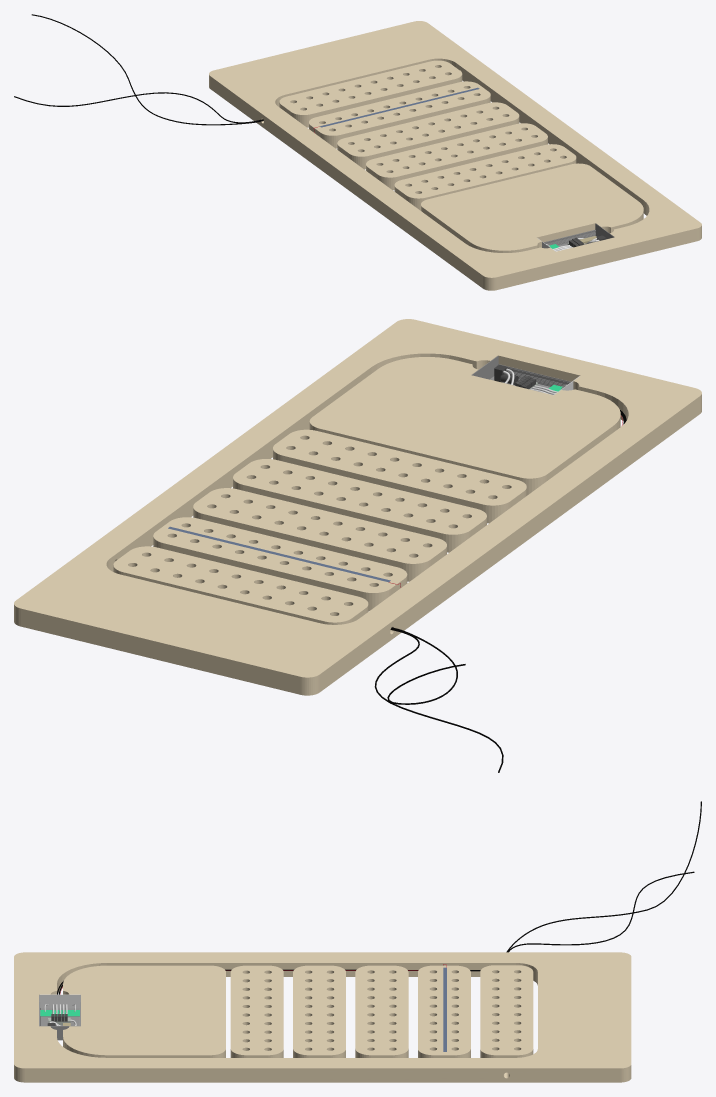
The picture shows the model from 3 angles, top to bottom: view 1: azimuth 30°, elevation 25°; view 2: azimuth 150°, elevation 25°; view 3: azimuth 270°, elevation 25°; orthographic projection. The views are drawn at different scales.
Visible parts, largest first — view 1: BOX - 气囊层海绵-14D-1, 贝塞尔曲线.011, 贝塞尔曲线.010; view 2: BOX - 气囊层海绵-14D-1; view 3: BOX - 气囊层海绵-14D-1, 贝塞尔曲线.011, BOX - 外壳板2-1, 贝塞尔曲线.010.
Part boxes in pixels (left/top/right/bottom): BOX - 气囊层海绵-14D-1: left=209, top=21, right=701, bottom=290; 贝塞尔曲线.011: left=31, top=14, right=263, bottom=125; 贝塞尔曲线.010: left=14, top=92, right=263, bottom=123; BOX - 气囊层海绵-14D-1: left=14, top=319, right=701, bottom=695; BOX - 气囊层海绵-14D-1: left=14, top=952, right=631, bottom=1082; 贝塞尔曲线.011: left=57, top=801, right=701, bottom=994; BOX - 外壳板2-1: left=39, top=994, right=80, bottom=1008; 贝塞尔曲线.010: left=58, top=871, right=694, bottom=994.
Bounding box in the file's own units: 1.54 × 0.3181 × 2.21.
